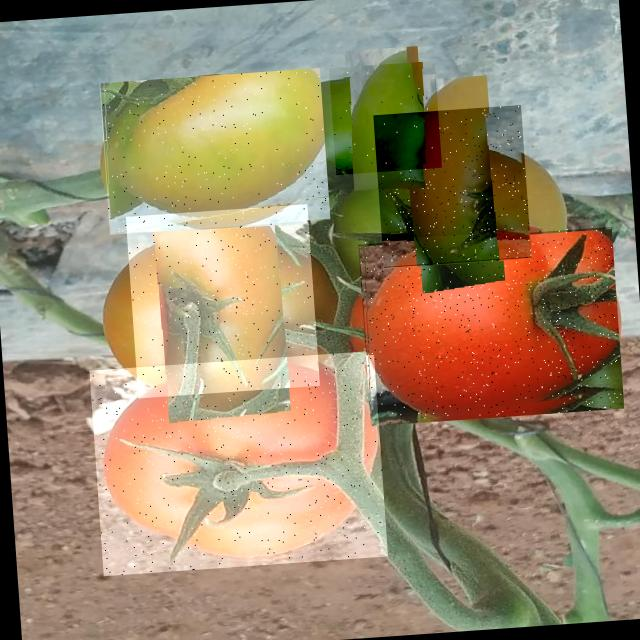Ripe Tomato: (89, 350, 388, 576), (358, 224, 624, 425), (126, 204, 320, 398)
Unripe Tomato: (99, 68, 330, 234), (373, 104, 531, 264), (328, 60, 442, 174)
